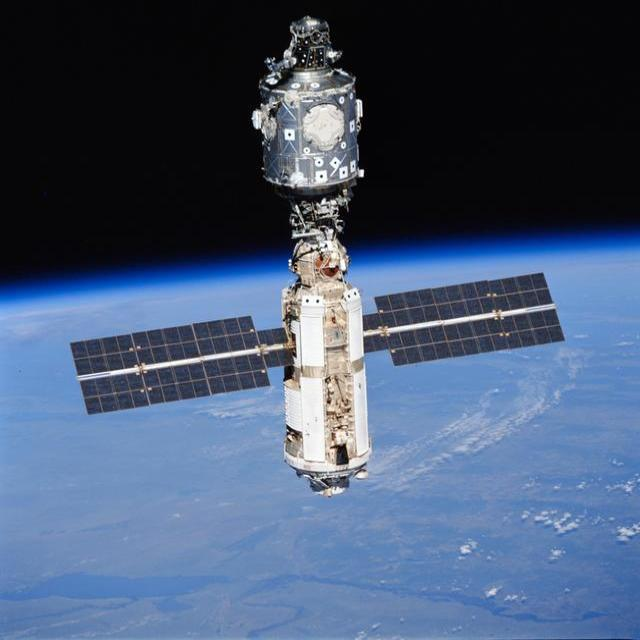medium_debris: (56, 32, 590, 548)
